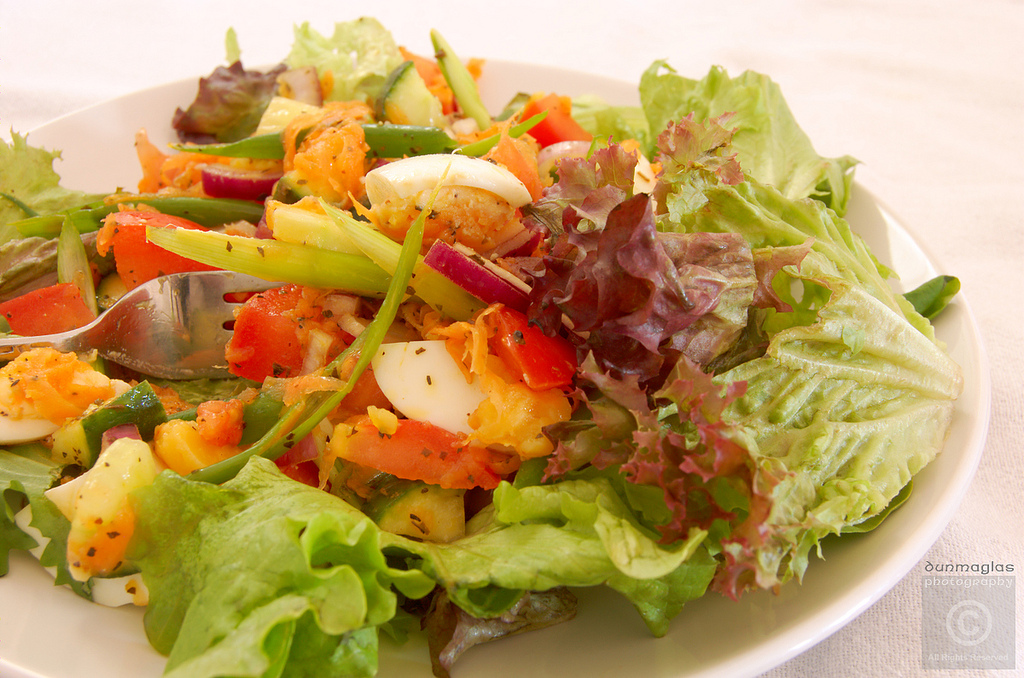chopped lettuce: (517, 86, 950, 588), (48, 441, 743, 678)
